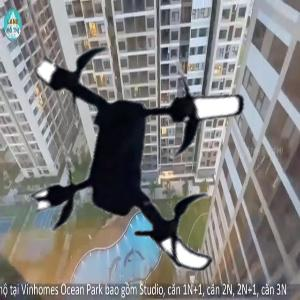drone: (11, 20, 281, 290)
